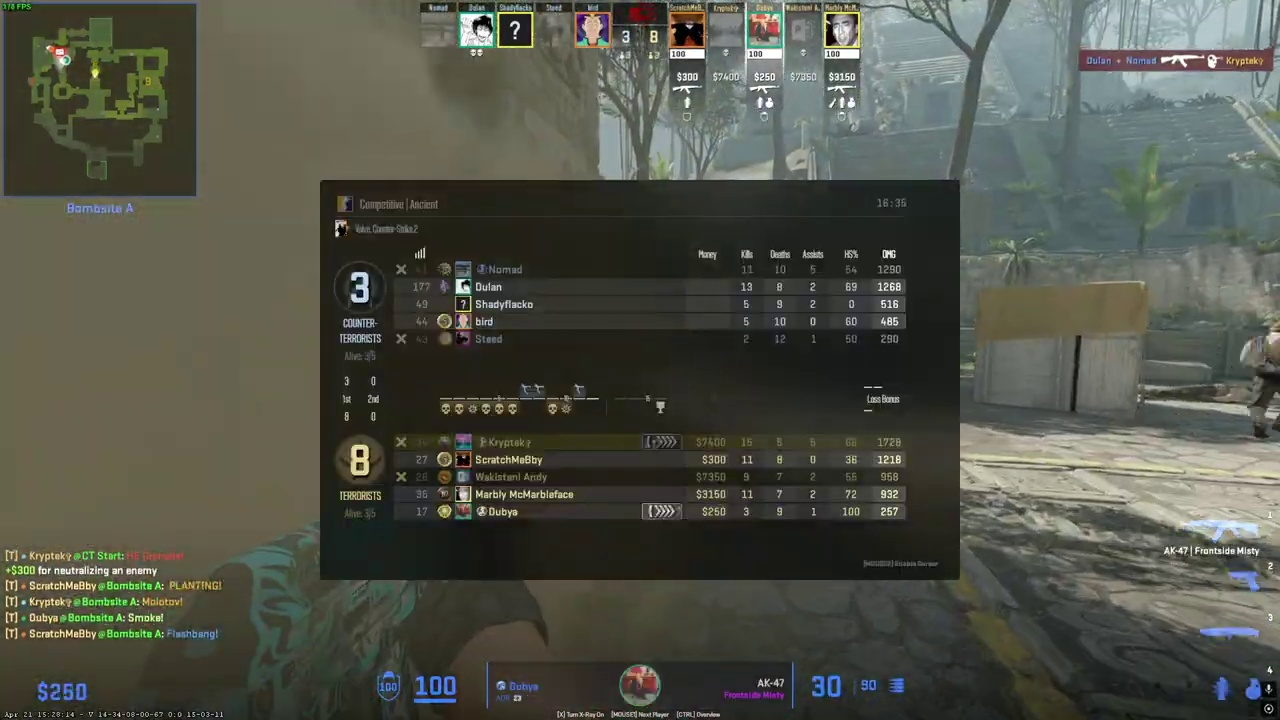Terrorist: (1246, 320, 1280, 439)
